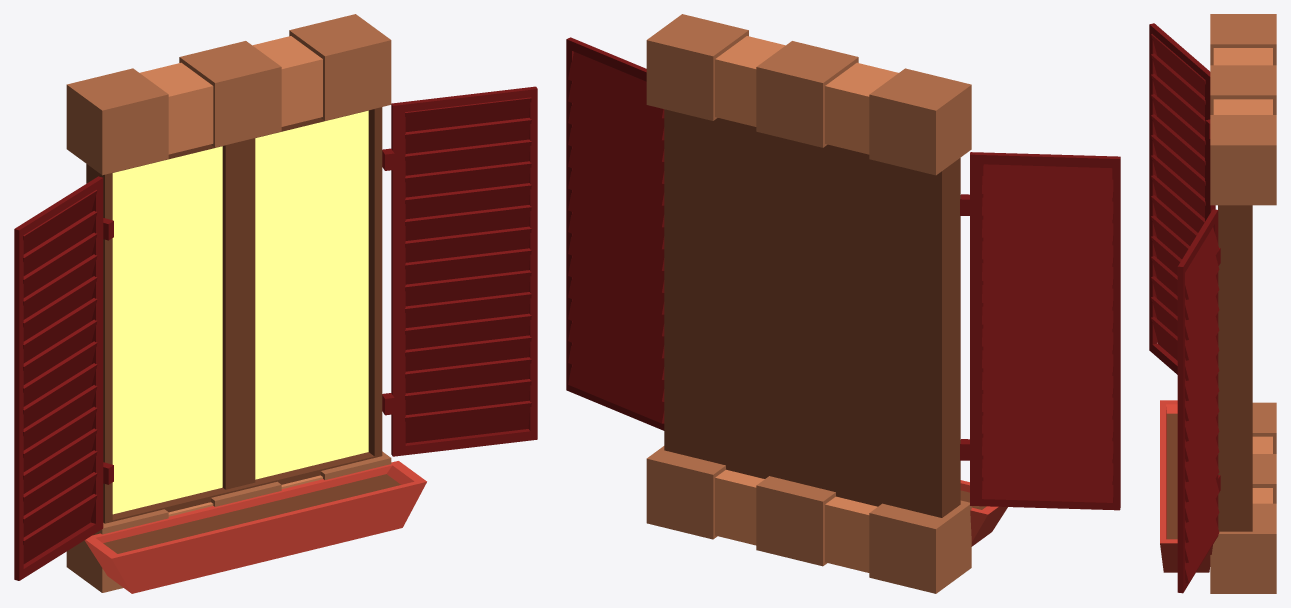
The model's file is village_pack_window_2.glb.
The picture shows the model from 3 angles, left to right: view 1: azimuth 30°, elevation 25°; view 2: azimuth 150°, elevation 25°; view 3: azimuth 270°, elevation 25°; orthographic projection. The views are drawn at different scales.
Visible parts, largest first — view 1: window 2_brick 1_0; view 2: window 2_brick 1_0; view 3: window 2_brick 1_0.
Part boxes in pixels (<box>): window 2_brick 1_0: <box>14,14,537,593</box>; window 2_brick 1_0: <box>566,14,1120,593</box>; window 2_brick 1_0: <box>1149,14,1276,593</box>.
Size of the model in its own units: 2.48 by 2.13 by 0.5468.
